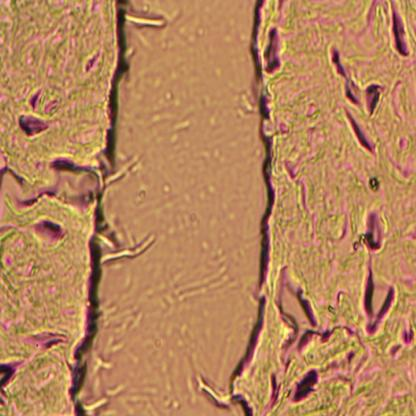Stage I: (245, 0, 416, 416), (0, 0, 96, 416)
